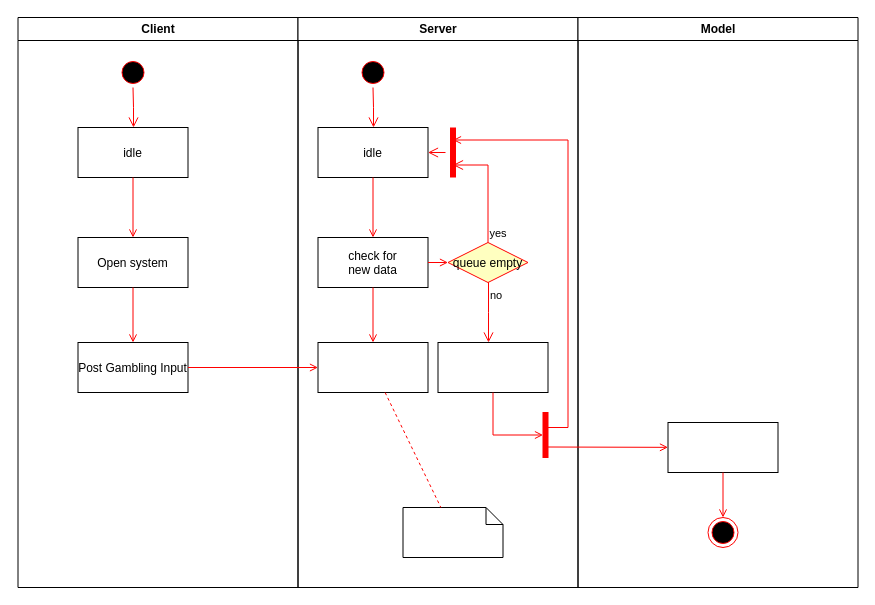
Image size: 875x605. Some labels were removed from this diagram. Each missing label, with the centre of its shape:
critical section: point (452, 532)
Dispatch Data: point (492, 367)
queue: point (372, 367)
Run Algorithm: point (722, 447)
